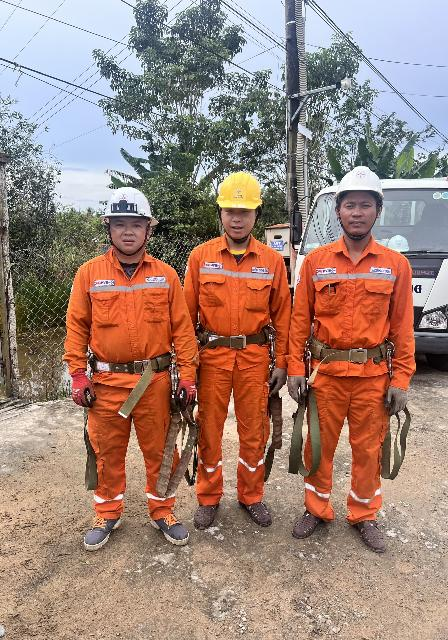gloves: (68, 368, 104, 415), (170, 374, 200, 413), (387, 377, 412, 420), (282, 373, 313, 406), (267, 365, 284, 400)
harness: (295, 320, 404, 373), (191, 322, 281, 360), (88, 352, 180, 381)
helmet: (99, 180, 172, 243), (327, 156, 395, 209), (211, 170, 269, 219)
shoes: (70, 501, 126, 553), (351, 514, 396, 559), (146, 502, 189, 546), (288, 501, 326, 541), (236, 493, 275, 528), (187, 493, 219, 531)
